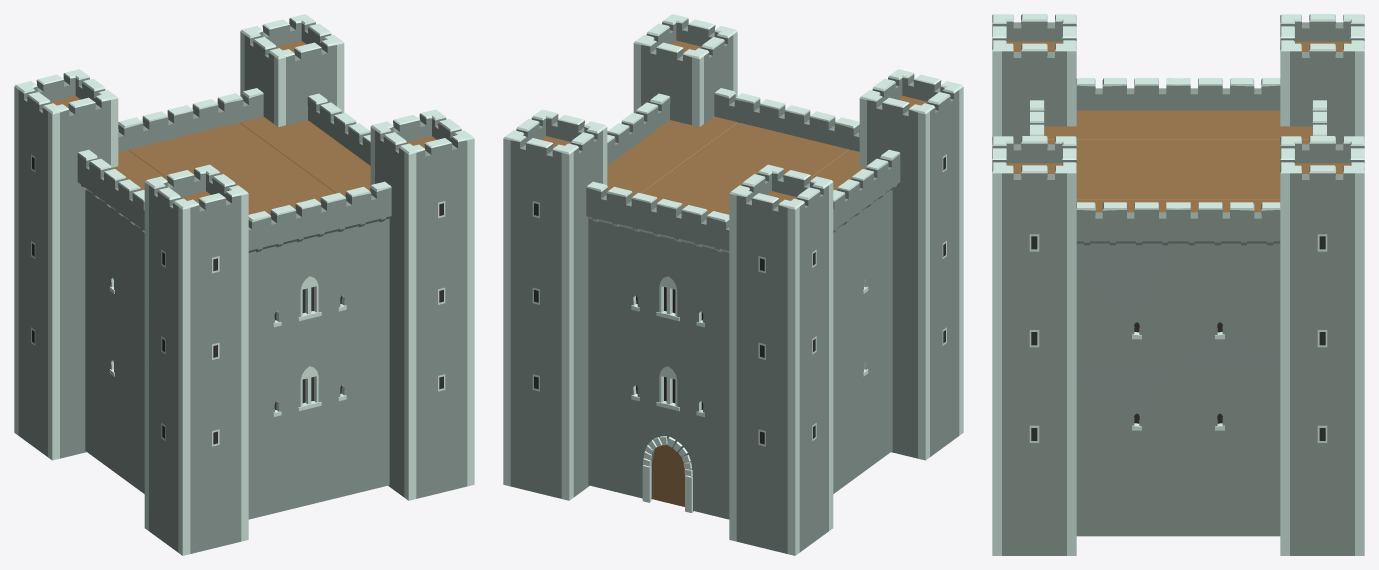
The model's file is castle.fbx.
3 views of the same model, side by side, from view 1: azimuth 30°, elevation 25°; view 2: azimuth 150°, elevation 25°; view 3: azimuth 270°, elevation 25° (orthographic). The views are drawn at different scales.
Parts seen in each view (by area): view 1: castle; view 2: castle; view 3: castle.
Boxes of the visible parts, left/top/right/bottom form: castle: left=14, top=14, right=474, bottom=555; castle: left=503, top=14, right=963, bottom=555; castle: left=992, top=14, right=1364, bottom=555.
Bounding box in the file's own units: 19.41 × 22.1 × 19.39.
